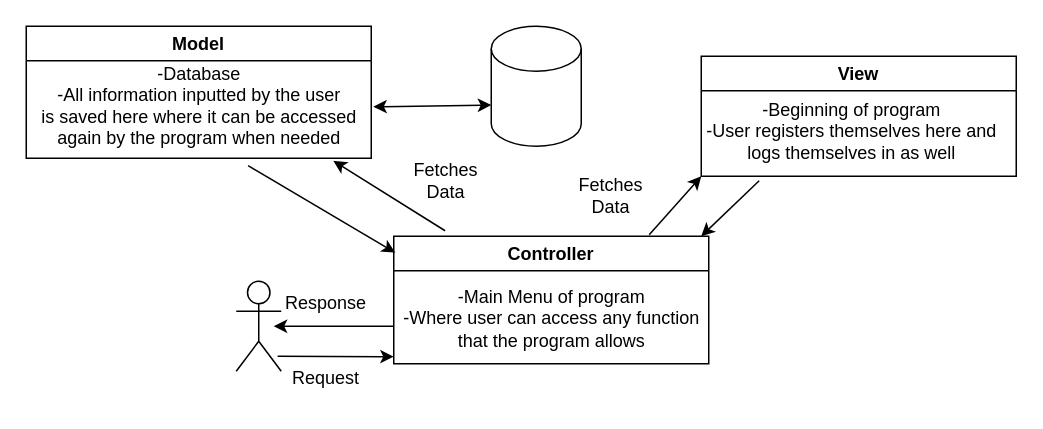
Some shapes in this 1043 by 429 pixel diagram are drawn without their labels. The shapes that lost their labels are listed below. From the top down, each one's centre as x and y in pixels, then its label:
At point 535,85: "Database".
At point 258,325: "User".
